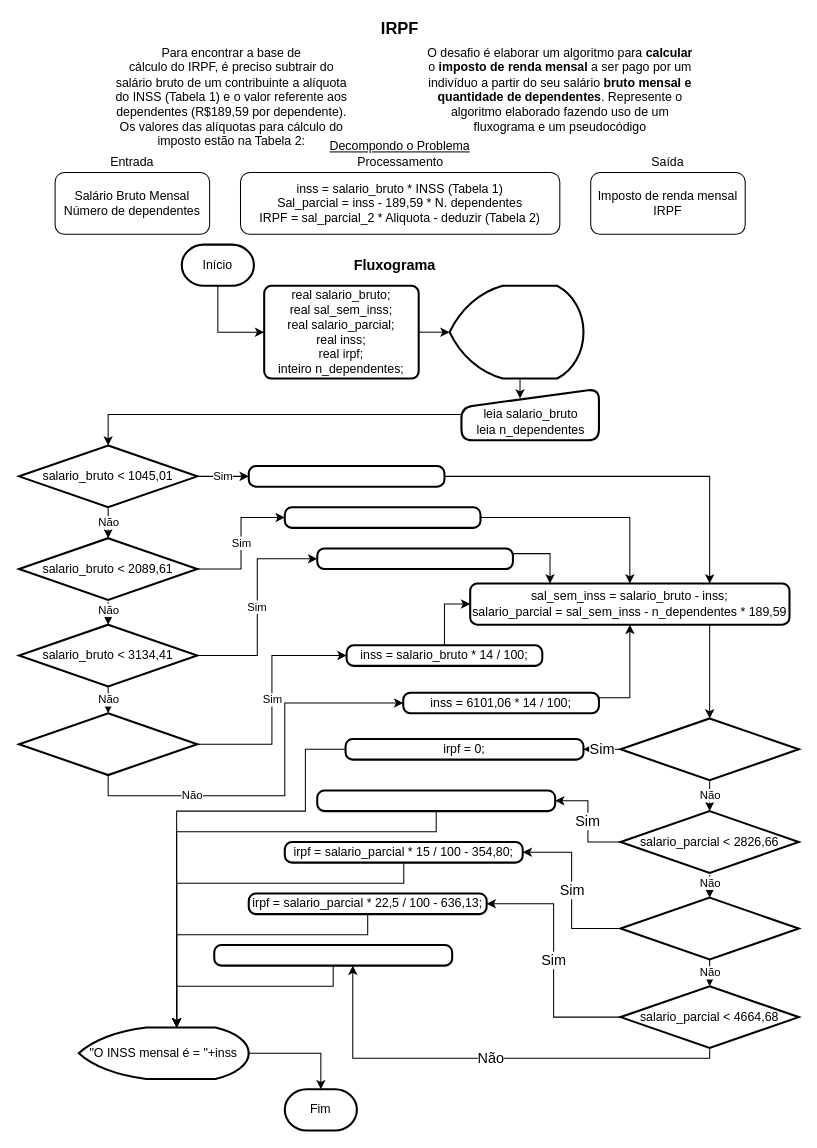
Image size: 817x1148. Some labels were removed from this diagram. The centre of each missing label's shape, as x and y in pixels:
Escreva "Digite o salário bruto e a quantidade de dependentes:": pixel 516 331
inss = salario_bruto * 12 / 100;: pixel 414 558
inss = salario_bruto * 7,5 / 100;: pixel 346 476
inss = salario_bruto * 9 / 100;: pixel 382 517
irpf = salario_parcial * 27,5 / 100 - 869,36;: pixel 333 954
irpf = salario_parcial * 7,5 / 100 - 142,80;: pixel 436 800
salario_bruto <= 6101,06: pixel 108 744
salario_parcial < 1903,99: pixel 709 749
salario_parcial < 3751,06: pixel 709 928
